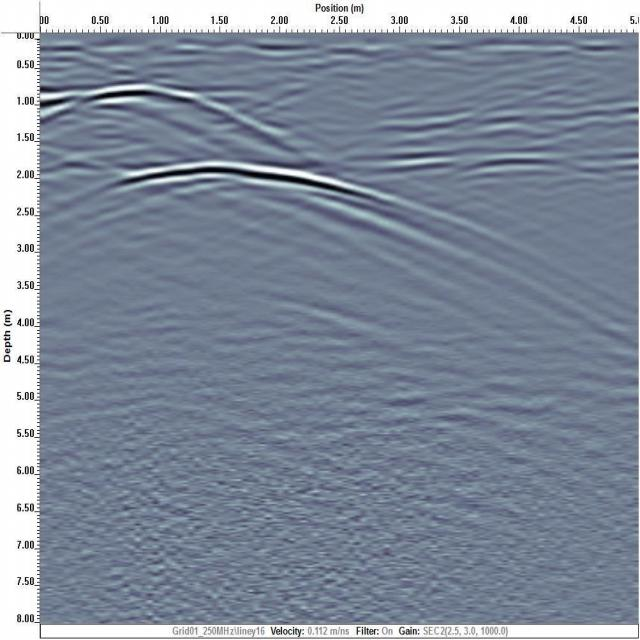hyperbola: (105, 142, 412, 238), (42, 76, 234, 138)
